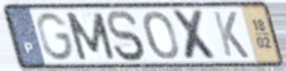G: (35, 11, 76, 62)
K: (210, 10, 251, 60)
M: (62, 11, 118, 62)
O: (142, 10, 181, 62)
S: (104, 9, 147, 64)
X: (169, 8, 222, 62)
